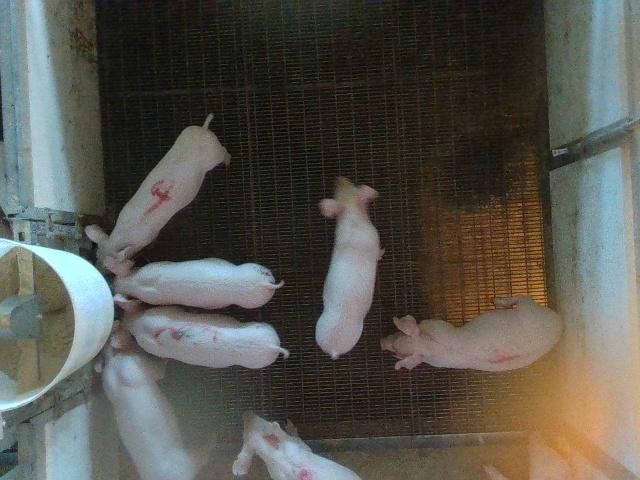pig-1: (380, 295, 561, 371)
pig-3: (110, 294, 289, 368)
pig-4: (86, 115, 230, 261)
